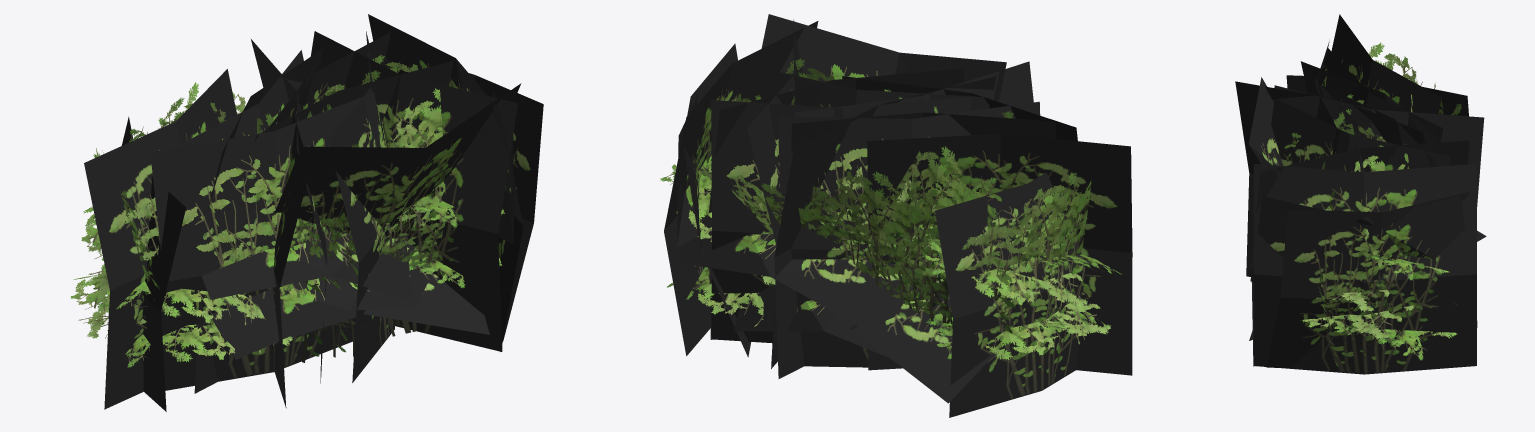
File: Hedge-01.fbx
The picture shows the model from 3 angles, left to right: view 1: azimuth 30°, elevation 25°; view 2: azimuth 150°, elevation 25°; view 3: azimuth 270°, elevation 25°; orthographic projection. The views are drawn at different scales.
Parts seen in each view (by area): view 1: Hedge-01; view 2: Hedge-01; view 3: Hedge-01.
Boxes of the visible parts, bbox=[...] form: Hedge-01: bbox=[70, 14, 543, 411]; Hedge-01: bbox=[660, 14, 1132, 417]; Hedge-01: bbox=[1235, 14, 1486, 374].
Size of the model in its own units: 317 by 141 by 184.
Materials: 2 (2 with a texture image).
